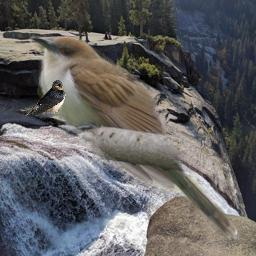Cuckoo: (29, 36, 241, 241)
Swallow: (20, 80, 66, 116)
